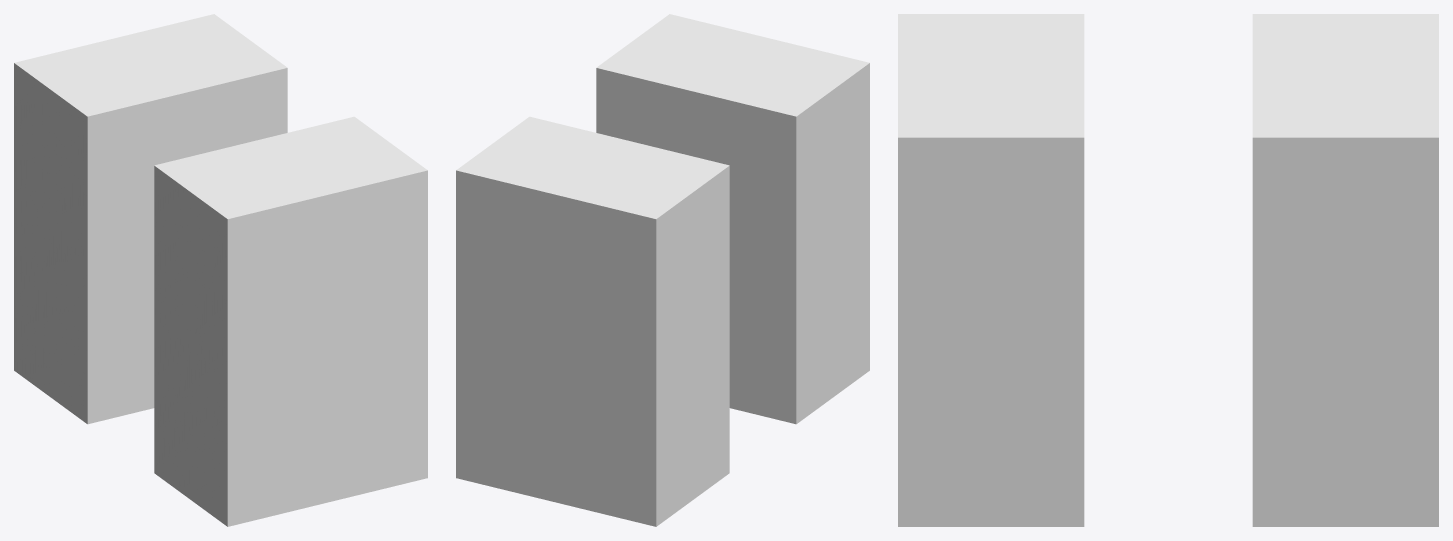
Rendered from geruest3.obj.
The picture shows the model from 3 angles, left to right: view 1: azimuth 30°, elevation 25°; view 2: azimuth 150°, elevation 25°; view 3: azimuth 270°, elevation 25°; orthographic projection. The views are drawn at different scales.
Parts seen in each view (by area): view 1: cube2_copy110, cube2_copy111; view 2: cube2_copy111, cube2_copy110; view 3: cube2_copy111, cube2_copy110.
Boxes of the visible parts, box(x1,y1,x2,y2) form: cube2_copy110: box(154, 116, 427, 526); cube2_copy111: box(14, 14, 287, 424); cube2_copy111: box(456, 116, 729, 526); cube2_copy110: box(596, 14, 869, 424); cube2_copy111: box(1252, 14, 1438, 526); cube2_copy110: box(898, 14, 1084, 526).
Size of the model in its own units: 28.09 by 41.24 by 51.91.
1 material, 1 textured.
